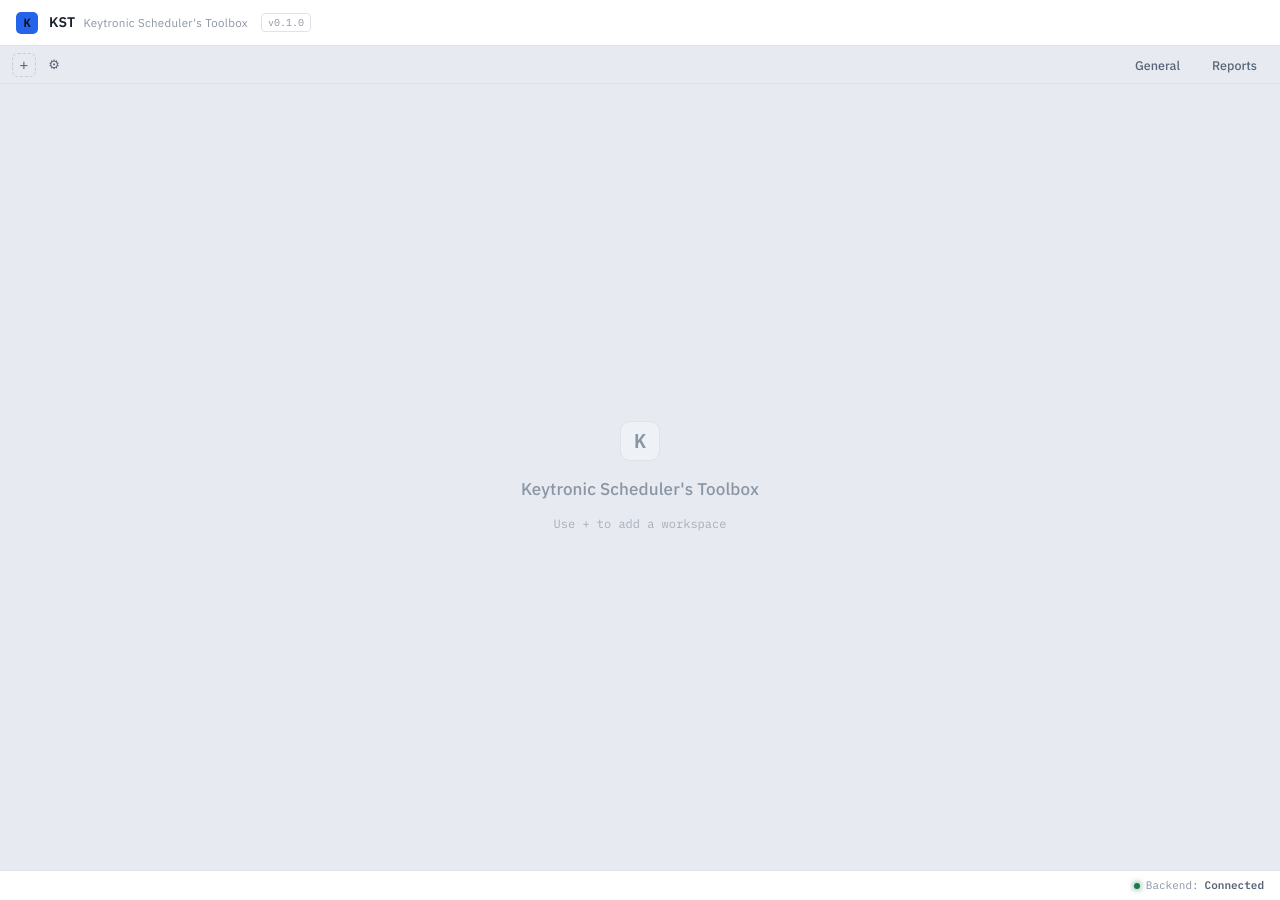
Test: AddWorkspaceDialog › + button opens the Add Workspace modal
Click the button named "add workspace".
click(24, 64)  # box [12,52,36,76]
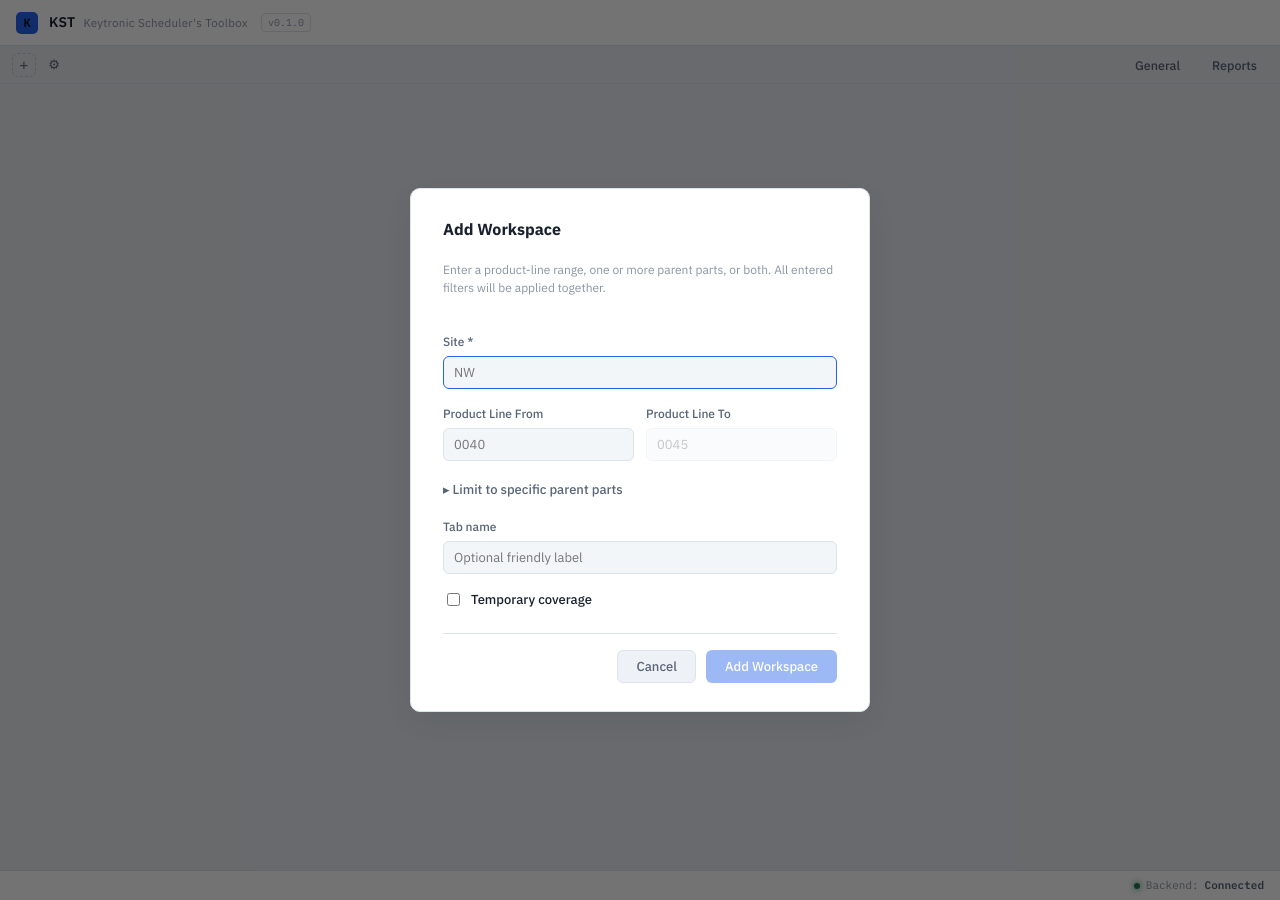
Expected: the dialog is shown, [410,188,870,712]
Expected: the heading "Add Workspace" is shown, [443,219,561,239]
